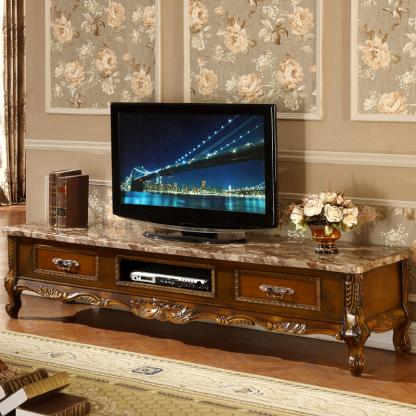Carpet: (0, 332, 416, 416)
TV stand: (3, 221, 416, 378)
